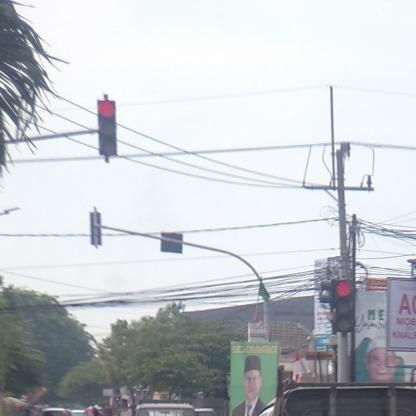red: (96, 100, 118, 157), (332, 280, 354, 336)
